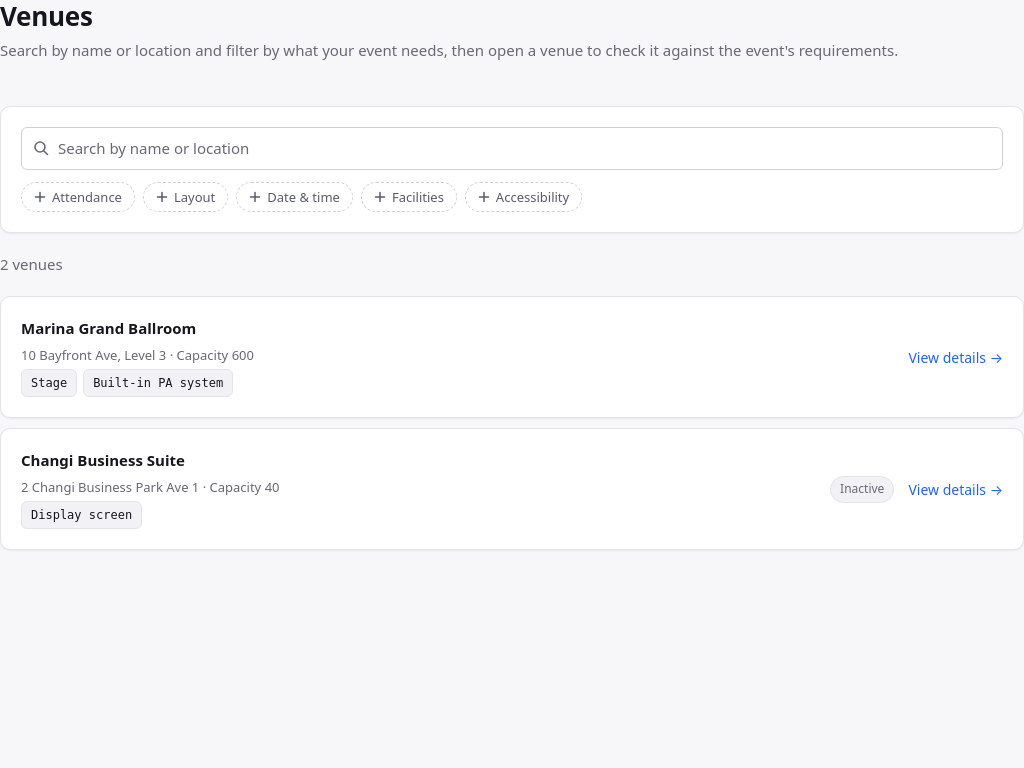
Test case: the filter bar › removes one filter with its own ✕, leaving the others
Expected: the text "Marina Grand Ballroom" is shown, [21,318,196,338]
Step 1. Click the button "Layout" → (186, 197), box [143,182,228,212]
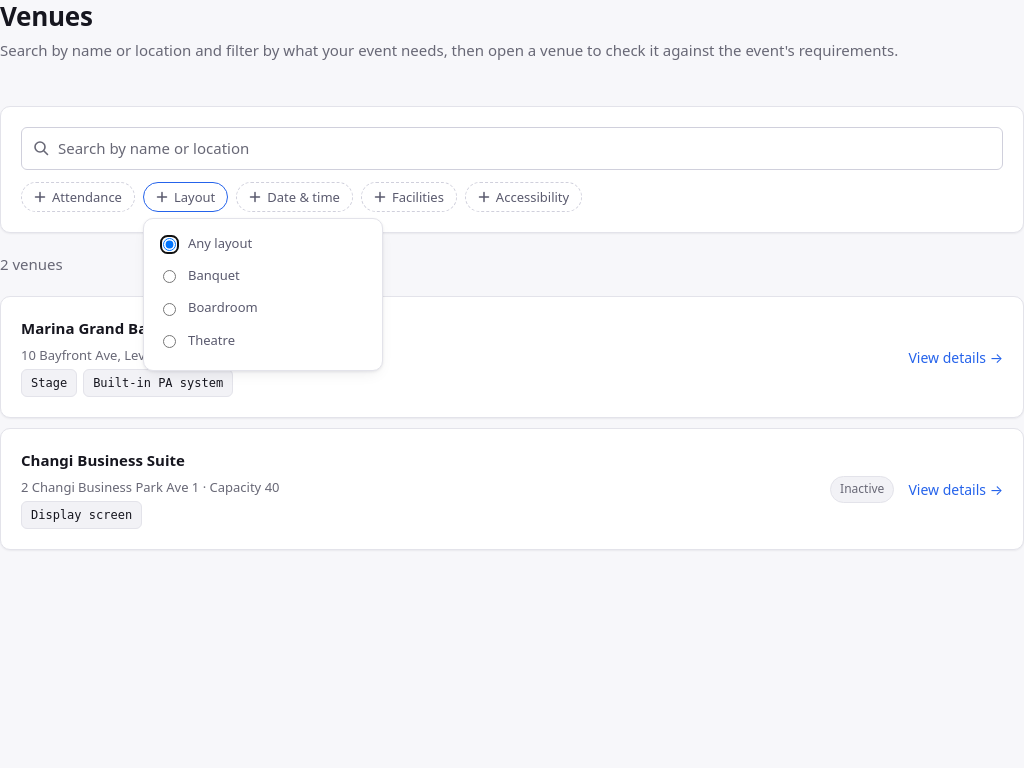
Step 2. Click the radio button labelled "Theatre" → (170, 341), box [163,335,176,348]
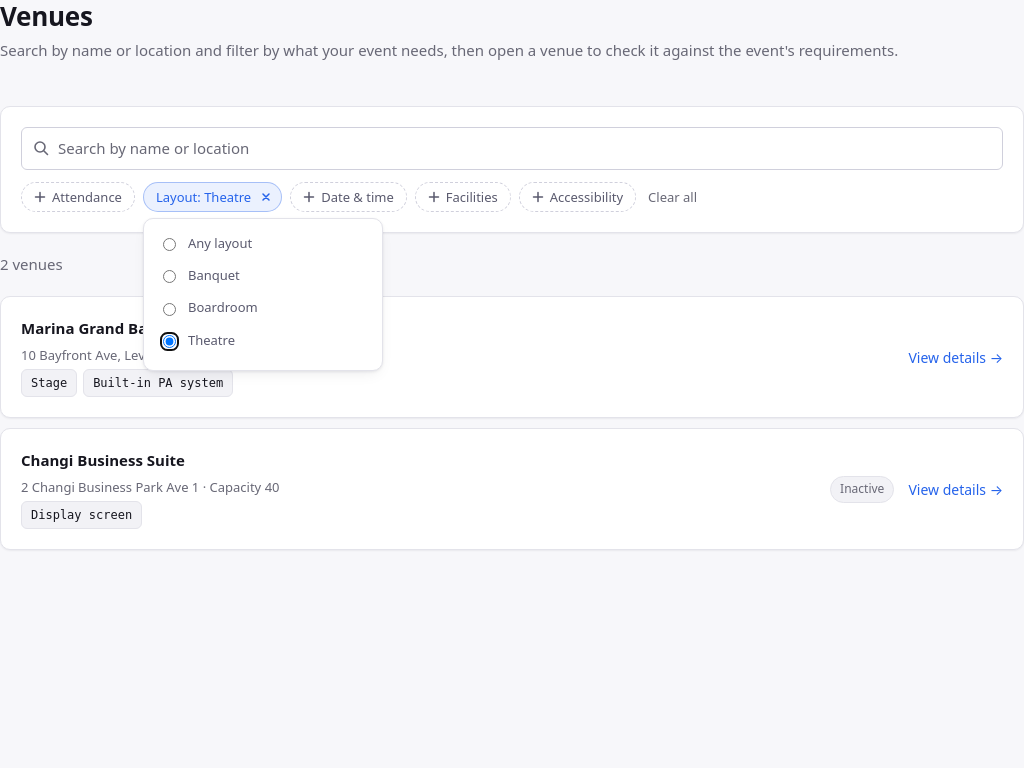
Step 3. Click the button "Facilities" → (463, 197), box [415,182,511,212]
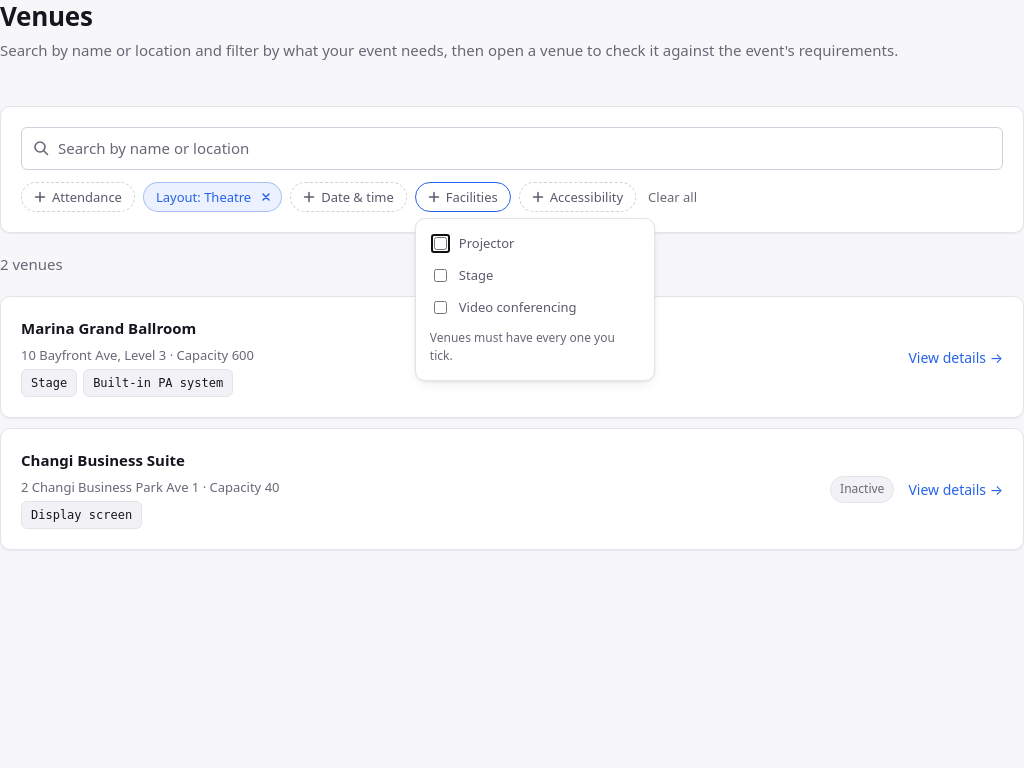
Step 4. Click the checkbox labelled "Stage" → (440, 275), box [434,269,447,282]
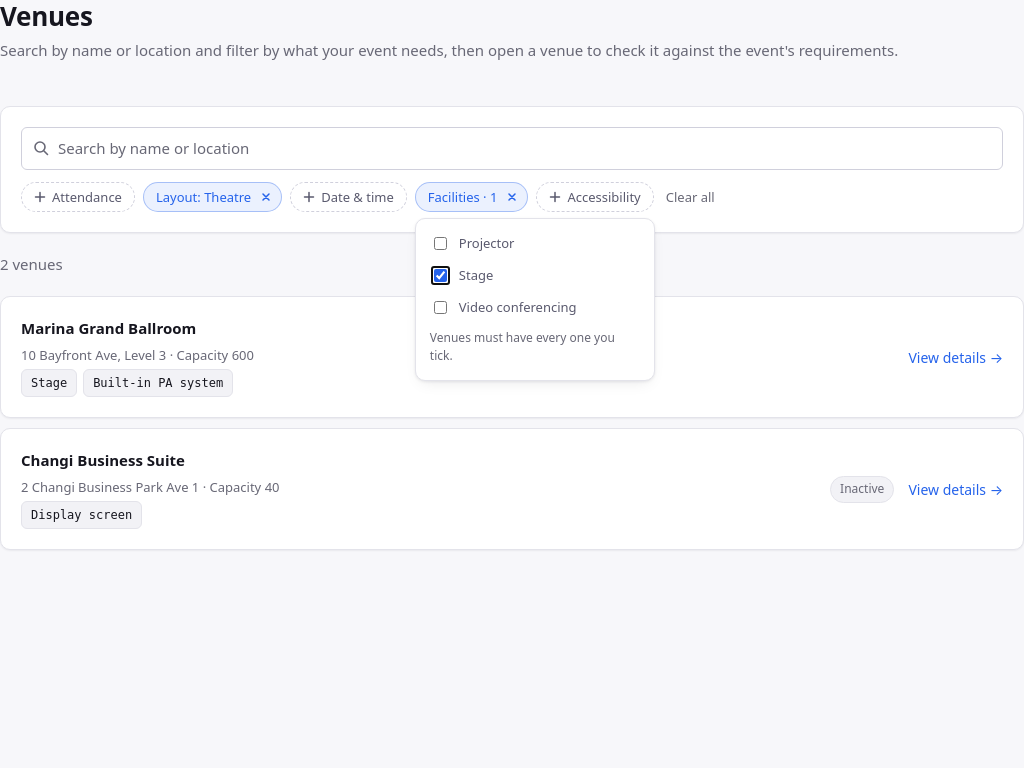
Step 5. Click the button named "Remove Layout filter" → (266, 197), box [256,187,276,207]
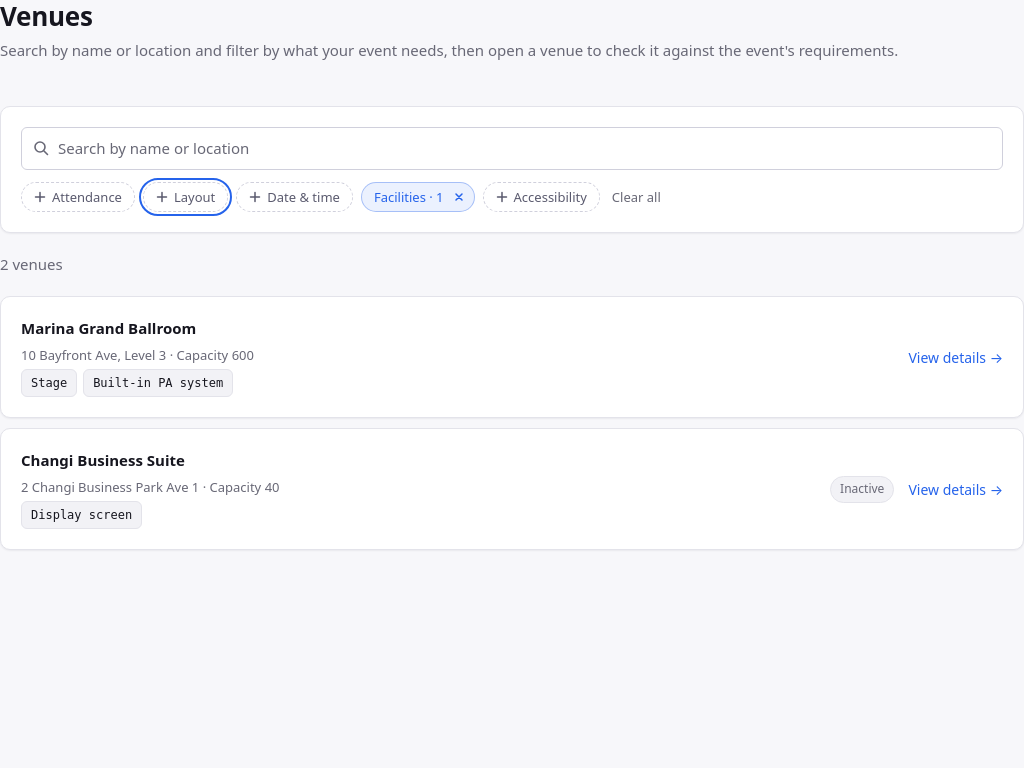
Expected: the button "Layout" is shown, [143,182,228,212]
